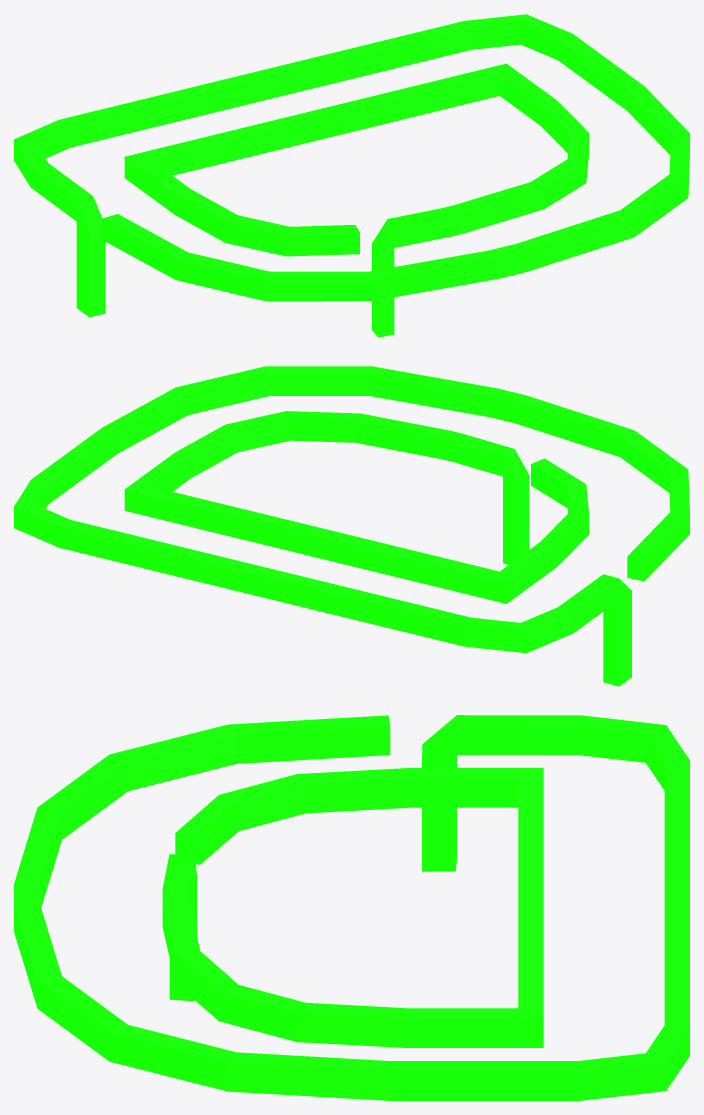
Rendered from Alphabet_3D_04_D.FBX.
The picture shows the model from 3 angles, top to bottom: view 1: azimuth 30°, elevation 25°; view 2: azimuth 150°, elevation 25°; view 3: azimuth 270°, elevation 25°; orthographic projection. The views are drawn at different scales.
Visible parts, largest first — view 1: Alphabet_3D_04_D; view 2: Alphabet_3D_04_D; view 3: Alphabet_3D_04_D.
Boxes of the visible parts, bbox=[...] form: Alphabet_3D_04_D: bbox=[14, 14, 689, 337]; Alphabet_3D_04_D: bbox=[14, 366, 689, 686]; Alphabet_3D_04_D: bbox=[14, 715, 689, 1100].
Size of the model in its own units: 66.34 by 12.63 by 53.13.
